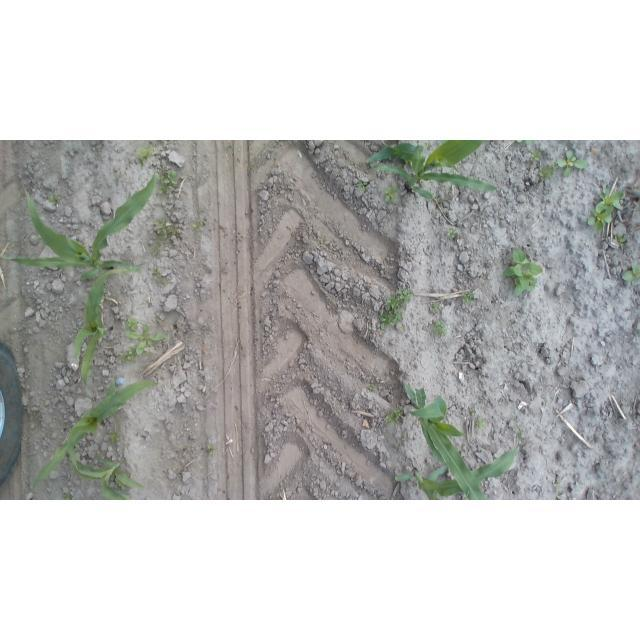Maize: (4, 168, 161, 281), (31, 376, 161, 493), (394, 422, 524, 500), (403, 384, 486, 500), (364, 141, 500, 202), (70, 268, 130, 388), (65, 430, 145, 500)
Weeds: (503, 247, 545, 297), (587, 185, 626, 233), (378, 286, 415, 331), (125, 322, 166, 354), (556, 148, 588, 178), (159, 169, 180, 196), (621, 261, 640, 287), (134, 145, 154, 168), (538, 162, 558, 183), (155, 216, 170, 239), (120, 345, 139, 363), (429, 319, 448, 337), (382, 184, 399, 203), (528, 146, 544, 166), (386, 408, 403, 426), (125, 316, 140, 332), (152, 277, 170, 290), (460, 290, 474, 304), (355, 180, 369, 193), (108, 429, 120, 443), (615, 231, 627, 245), (152, 241, 163, 256), (446, 227, 457, 240), (516, 140, 533, 148), (49, 194, 60, 206), (431, 303, 442, 314), (113, 172, 122, 184), (476, 416, 485, 427), (193, 220, 201, 232), (206, 444, 214, 456), (170, 227, 179, 237), (469, 407, 478, 417), (152, 269, 161, 278), (63, 491, 72, 500), (319, 235, 327, 244), (117, 483, 125, 490), (368, 385, 376, 392), (553, 481, 560, 488), (249, 163, 255, 171), (157, 174, 164, 180), (224, 144, 232, 149), (117, 415, 123, 421)
